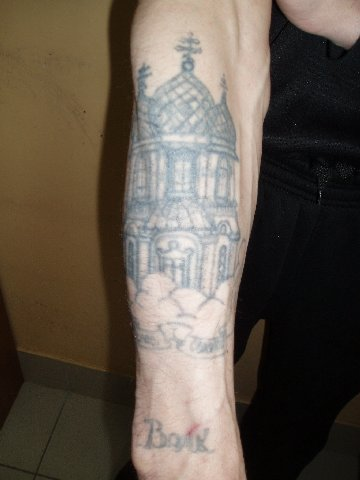tatu3_bukva: (138, 413, 214, 459)
